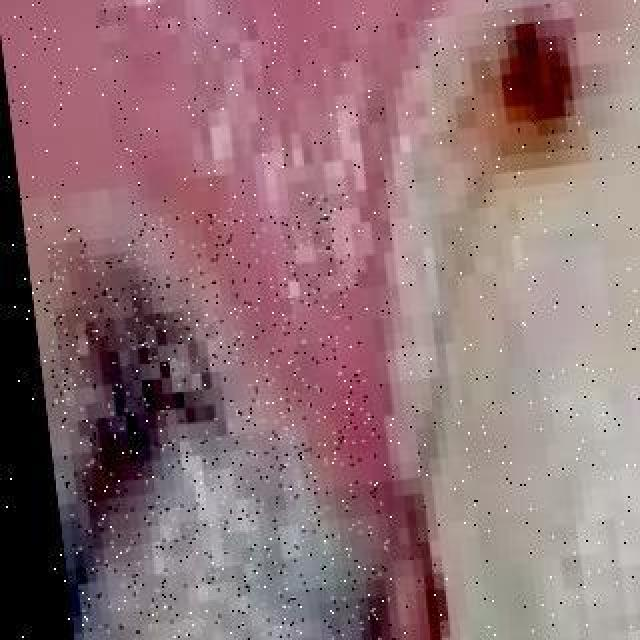calculus: (212, 0, 636, 506)
cavities: (4, 230, 320, 640), (400, 0, 640, 370)
